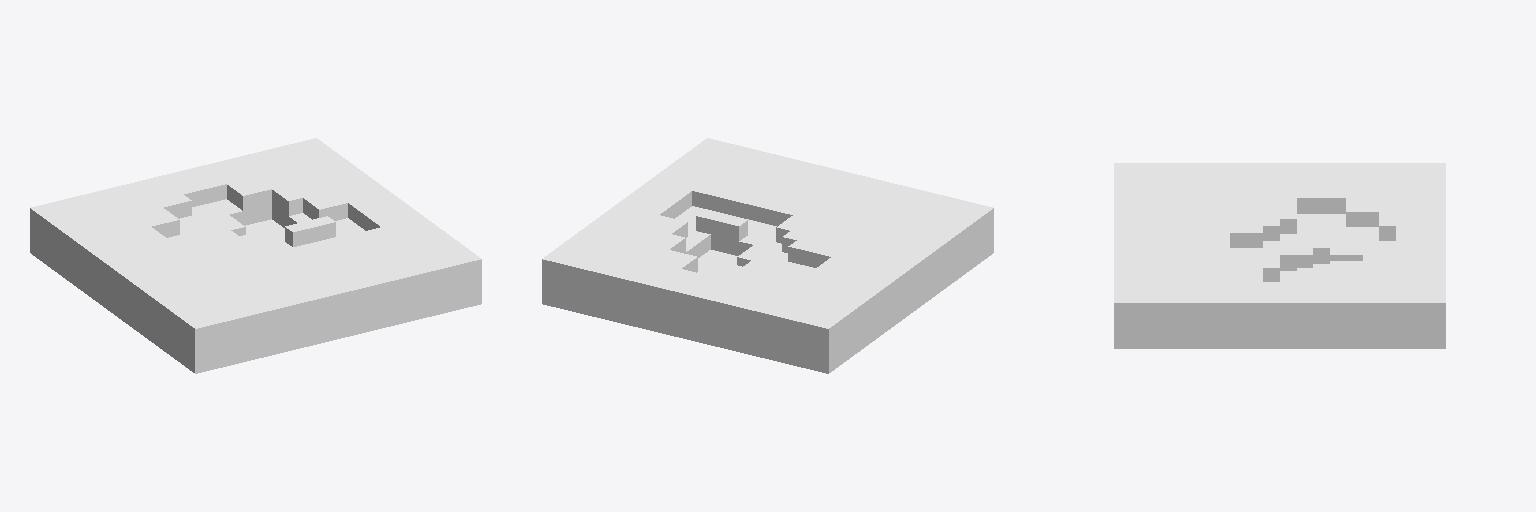
File: water.vox.obj
3 renders of one model, left to right at view 1: azimuth 30°, elevation 25°; view 2: azimuth 150°, elevation 25°; view 3: azimuth 270°, elevation 25°, orthographic.
Parts seen in each view (by area): view 1: object 1; view 2: object 1; view 3: object 1.
Part boxes in pixels (left/top/right/bottom): object 1: left=30, top=138, right=481, bottom=373; object 1: left=542, top=138, right=993, bottom=373; object 1: left=1114, top=163, right=1445, bottom=348.
Size of the model in its own units: 2 by 0.3 by 2.